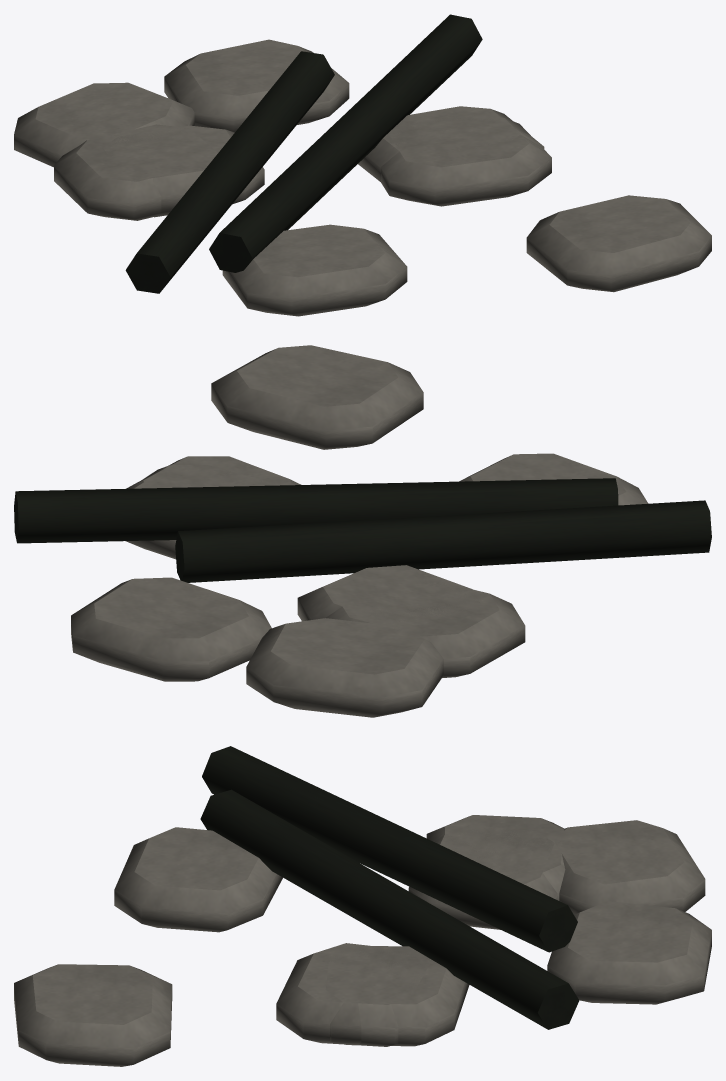
The model's file is ring-ash-bed-2.fbx.
The picture shows the model from 3 angles, top to bottom: view 1: azimuth 30°, elevation 25°; view 2: azimuth 150°, elevation 25°; view 3: azimuth 270°, elevation 25°; orthographic projection. The views are drawn at different scales.
Visible parts, largest first — view 1: ring-ash-bed-2__Geometry; view 2: ring-ash-bed-2__Geometry; view 3: ring-ash-bed-2__Geometry.
Boxes of the visible parts, bbox=[...] form: ring-ash-bed-2__Geometry: bbox=[14, 14, 711, 316]; ring-ash-bed-2__Geometry: bbox=[14, 345, 711, 717]; ring-ash-bed-2__Geometry: bbox=[14, 746, 711, 1066].
Size of the model in its own units: 0.6117 by 0.0871 by 0.683.
